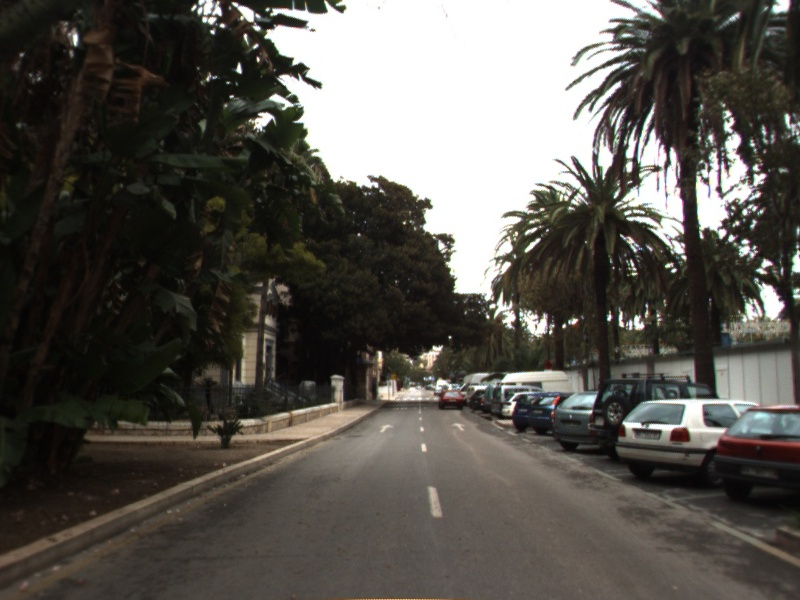STRAIGHT: (377, 422, 397, 435), (449, 420, 468, 433)
